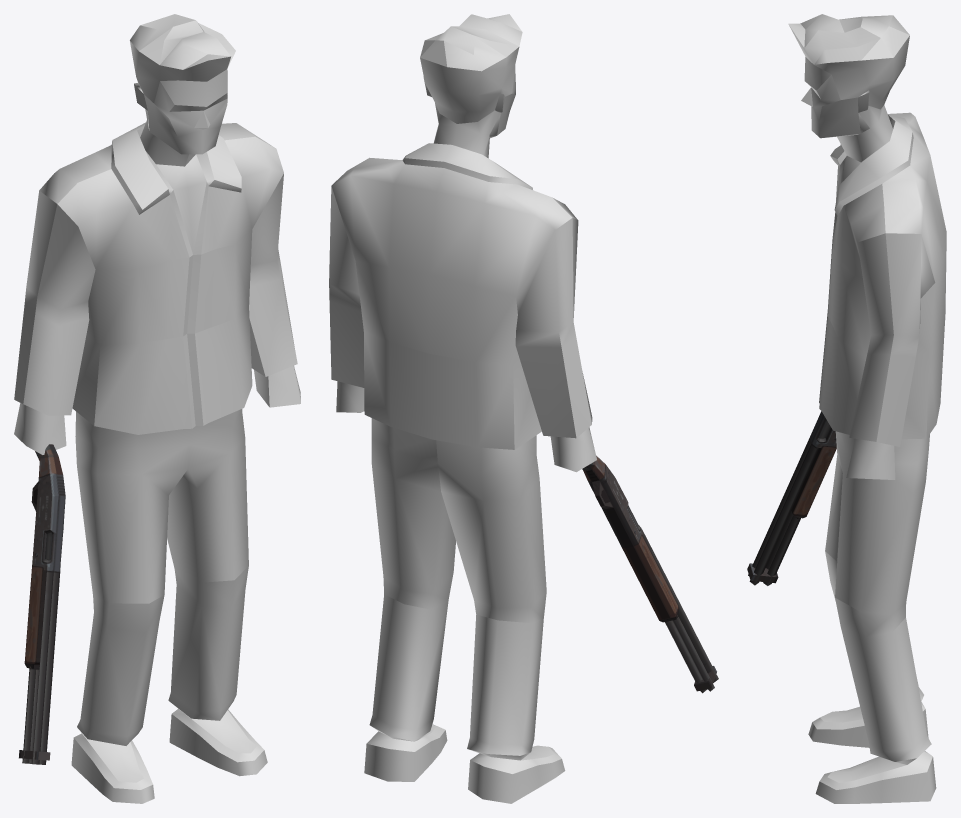
The model's file is bz_hero_01.fbx.
3 renders of one model, left to right at view 1: azimuth 30°, elevation 25°; view 2: azimuth 150°, elevation 25°; view 3: azimuth 270°, elevation 25°, orthographic.
Visible parts, largest first — view 1: bz_hero_01, bz_wp_shotgun_01; view 2: bz_hero_01, bz_wp_shotgun_01; view 3: bz_hero_01, bz_wp_shotgun_01.
Part boxes in pixels (left/top/right/bottom): bz_hero_01: left=14, top=14, right=300, bottom=803; bz_wp_shotgun_01: left=19, top=444, right=65, bottom=764; bz_hero_01: left=329, top=14, right=596, bottom=803; bz_wp_shotgun_01: left=582, top=455, right=718, bottom=693; bz_hero_01: left=788, top=14, right=946, bottom=803; bz_wp_shotgun_01: left=747, top=411, right=836, bottom=585.
Bounding box in the file's own units: 0.8808 × 1.92 × 0.4631.
